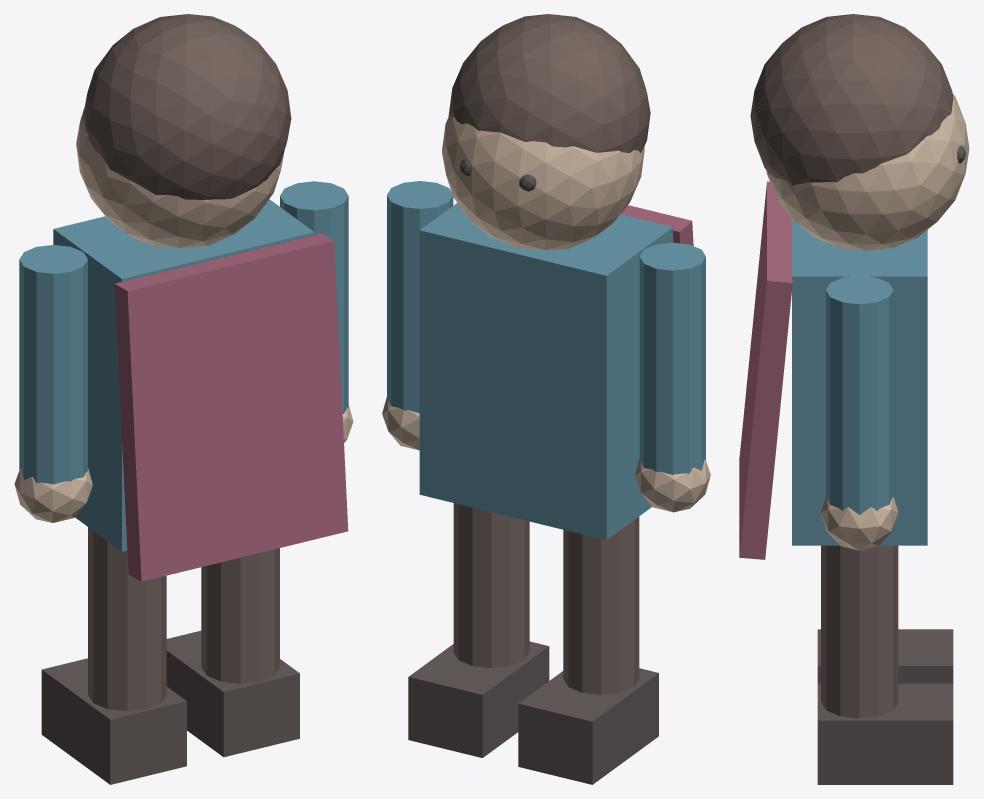
The model's file is hero.glb.
3 renders of one model, left to right at view 1: azimuth 30°, elevation 25°; view 2: azimuth 150°, elevation 25°; view 3: azimuth 270°, elevation 25°, orthographic. The views are drawn at different scales.
Parts seen in each view (by area): view 1: Cape, Hair, Body, ArmL, LegL, BootL, BootR, LegR, Head, ArmR, HandL; view 2: Body, Hair, Head, ArmL, LegL, LegR, BootL, BootR, ArmR, HandL, HandR, Cape; view 3: Hair, Body, ArmR, Head, LegR, Cape, BootR, BootL, HandR.
Boxes of the visible parts, <box> form: Cape: <box>114,233,348,581</box>; Hair: <box>83,14,291,199</box>; Body: <box>53,199,314,551</box>; ArmL: <box>19,245,87,484</box>; LegL: <box>88,527,166,711</box>; BootL: <box>41,658,186,784</box>; BootR: <box>166,630,299,757</box>; LegR: <box>201,548,279,683</box>; Head: <box>76,107,284,248</box>; ArmR: <box>280,181,348,413</box>; HandL: <box>14,468,92,522</box>; Body: <box>419,203,673,540</box>; Hair: <box>448,14,650,153</box>; Head: <box>442,116,644,250</box>; ArmL: <box>639,242,705,474</box>; LegL: <box>563,516,639,694</box>; LegR: <box>453,503,529,668</box>; BootL: <box>518,668,658,784</box>; BootR: <box>408,641,549,757</box>; ArmR: <box>387,181,453,412</box>; HandL: <box>635,459,710,512</box>; HandR: <box>382,397,419,450</box>; Cape: <box>621,205,693,245</box>; Hair: <box>750,14,953,185</box>; Body: <box>792,218,927,545</box>; ArmR: <box>826,275,893,514</box>; Head: <box>766,93,969,250</box>; LegR: <box>821,545,898,718</box>; Cape: <box>739,181,792,559</box>; BootR: <box>817,683,953,784</box>; BootL: <box>817,629,953,683</box>; HandR: <box>821,497,898,550</box>.
Size of the model in its own units: 1.16 by 2.45 by 0.7125.
